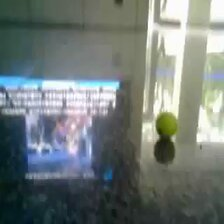tennis: (156, 112, 176, 137)
